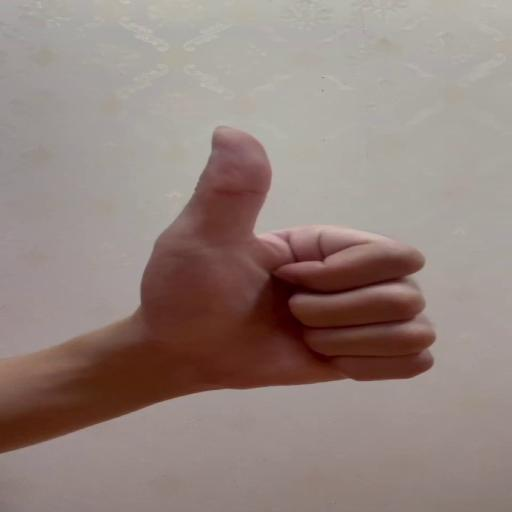thumbs_up: (142, 123, 440, 390)
